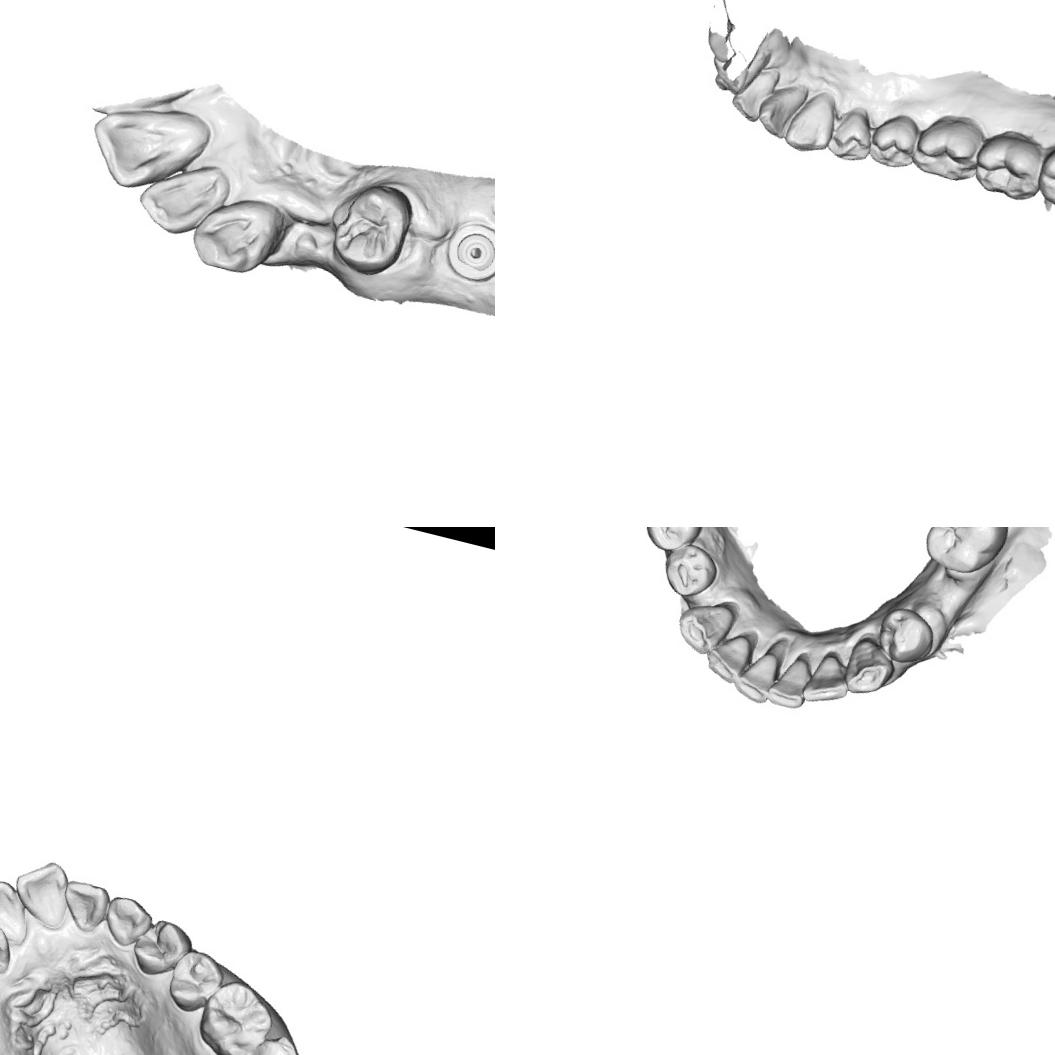canine: (184, 183, 290, 287), (670, 592, 737, 660), (781, 85, 842, 159), (838, 633, 898, 701), (98, 888, 158, 953)
implant: (440, 215, 495, 285)
incisor: (79, 88, 213, 205), (132, 150, 234, 246), (4, 852, 78, 932), (697, 623, 759, 689), (798, 646, 858, 712), (753, 77, 810, 144), (54, 876, 115, 938), (727, 60, 782, 126), (730, 644, 784, 708), (762, 650, 814, 713), (0, 872, 38, 948), (0, 916, 18, 977)
molar: (190, 971, 282, 1055), (970, 122, 1050, 208), (908, 106, 988, 186), (916, 527, 1013, 583), (224, 1024, 314, 1055), (1035, 137, 1055, 227)
premolar: (316, 171, 422, 281), (124, 912, 198, 984), (162, 944, 230, 1018), (654, 537, 724, 604), (870, 603, 936, 670), (865, 107, 923, 172), (825, 100, 880, 166), (638, 527, 709, 559)
